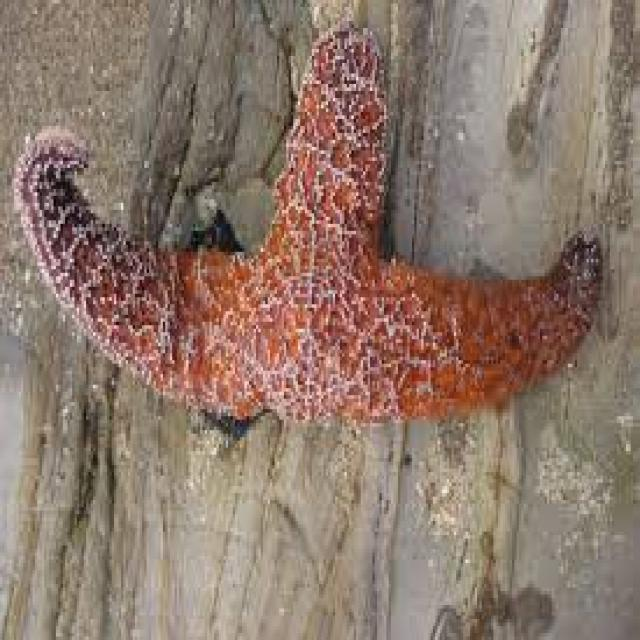starfish: (14, 24, 600, 416)
